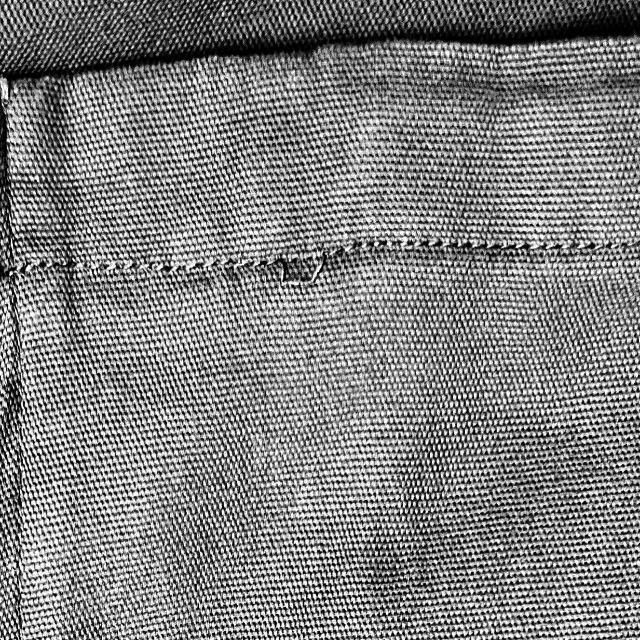Sewing_error: (262, 246, 340, 296)
